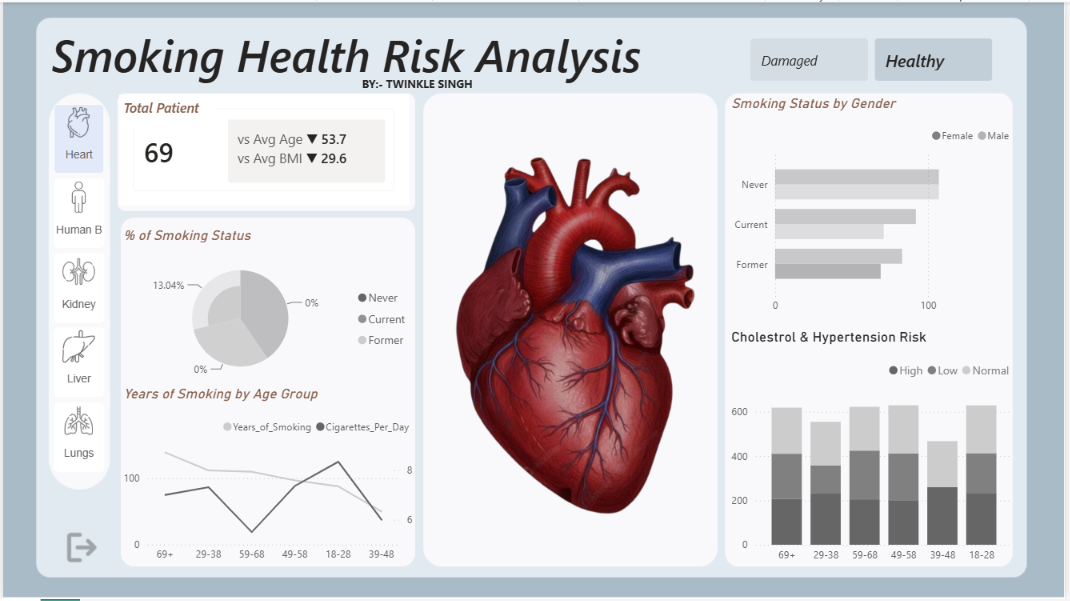

What the dashboard file says about the page in this screenshot:
{"tool":"powerbi","page":{"name":"Page 1","canvas":[1280,720],"ordinal":0},"visuals":[{"type":"cardVisual","fields":{"Data":["CountNonNull(health_dataset.Patient_ID)"]},"box":[140,111.1,349.9,134.5],"z":0},{"type":"textbox","box":[139.9,111,115.8,38.6],"z":1000},{"type":"advancedSlicerVisual","fields":{"Values":["Image Datasets.Organ_Condition"]},"box":[896.4,38.6,302.8,61.5],"z":2000},{"type":"ChicletSlicer1448559807354","fields":{"Category":["Organ.Organ"],"Image":["Organ.Icon_URL"]},"box":[53.1,114.6,86.9,462.1],"z":3000},{"type":"image","box":[512.7,120.6,349.9,563.4],"z":4000},{"type":"pieChart","title":"% of Smoking Status","fields":{"Category":["health_dataset.Smoking_Status"],"Y":["CountNonNull(health_dataset.Smoking_Status)"]},"box":[139.9,270.2,359.5,191.8],"z":5000},{"type":"lineChart","title":"Years of Smoking by Age Group","fields":{"Category":["health_dataset.Age Group"],"Y":["Sum(health_dataset.Years_of_Smoking)"],"Y2":["Avg(health_dataset.Cigarettes_Per_Day)"]},"box":[139.9,462.1,359.5,222],"z":6000},{"type":"clusteredBarChart","title":"Smoking Status by Gender","fields":{"Category":["health_dataset.Smoking_Status"],"Series":["health_dataset.Gender"],"Y":["CountNonNull(health_dataset.Patient_ID)"]},"box":[873.5,111,349.9,272.7],"z":7000},{"type":"columnChart","title":"Cholestrol & Hypertension Risk","fields":{"Category":["health_dataset.Age Group"],"Series":["health_dataset.BP_Risk"],"Y":["Avg(health_dataset.Cholesterol_Level)"]},"box":[873.5,393.3,349.9,290.8],"z":8000},{"type":"textbox","box":[53.1,21.7,785.4,89.3],"z":9000},{"type":"textbox","box":[423.5,84.5,152,30.2],"z":10000}]}

Visuals, with their boxes in screenshot pixels (x1, y1, x2, y2), scaled from the page's 1280x720 canvas onto the 1070x601 screenshot:
cardVisual - CountNonNull(health_dataset.Patient_ID): [117, 93, 410, 205]
textbox: [117, 93, 214, 125]
advancedSlicerVisual - Image Datasets.Organ_Condition: [749, 32, 1002, 84]
ChicletSlicer1448559807354 - Organ.Organ x Organ.Icon_URL: [44, 96, 117, 481]
image: [429, 101, 721, 571]
"% of Smoking Status" pieChart: [117, 226, 417, 386]
"Years of Smoking by Age Group" lineChart: [117, 386, 417, 571]
"Smoking Status by Gender" clusteredBarChart: [730, 93, 1023, 320]
"Cholestrol & Hypertension Risk" columnChart: [730, 328, 1023, 571]
textbox: [44, 18, 701, 93]
textbox: [354, 71, 481, 96]
